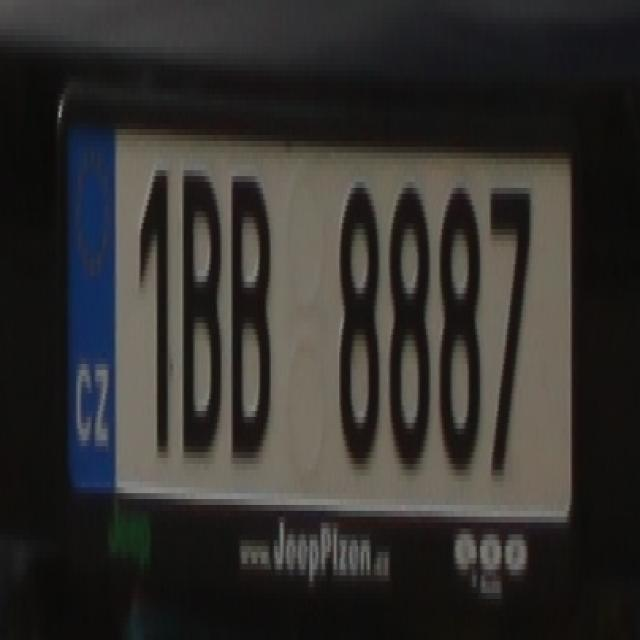1: (138, 164, 170, 464)
7: (486, 182, 534, 487)
8: (385, 176, 431, 470), (338, 176, 383, 458), (438, 182, 478, 458)
B: (226, 164, 276, 470), (177, 170, 222, 452)
